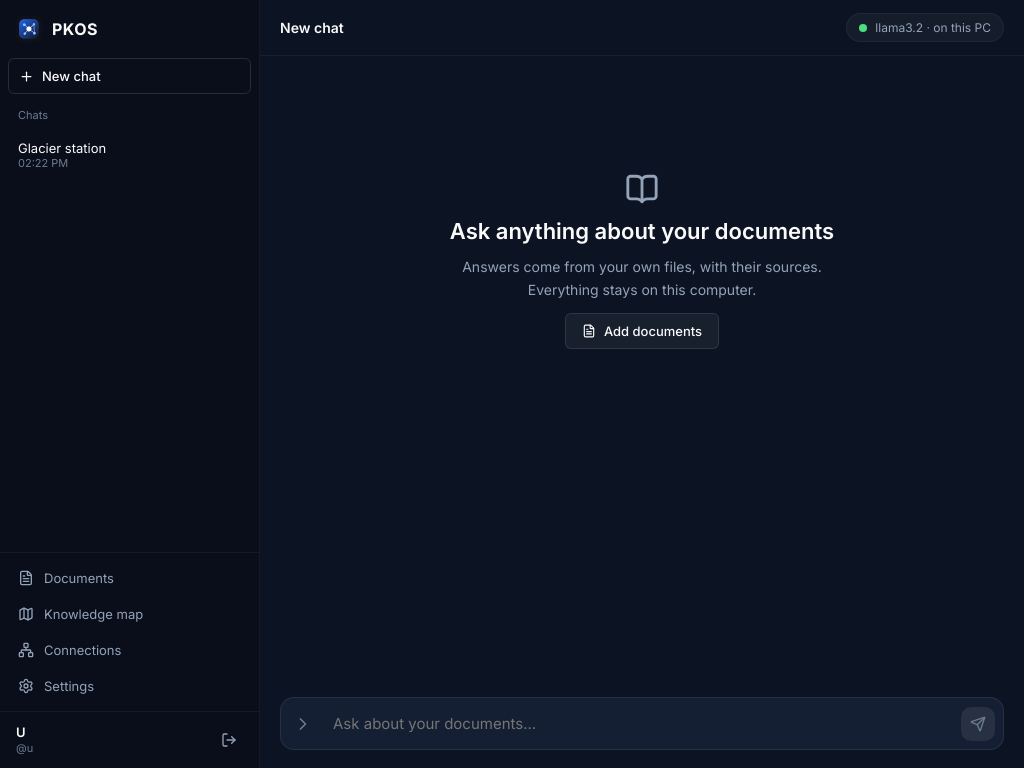
Scenario: the main screen › Documents is a page of its own, opened from the sidebar; New chat goes back to the chat
The image size is (1024, 768).
Step 1. Click the button "Documents" → {"x": 130, "y": 578}, box [8, 560, 251, 594]
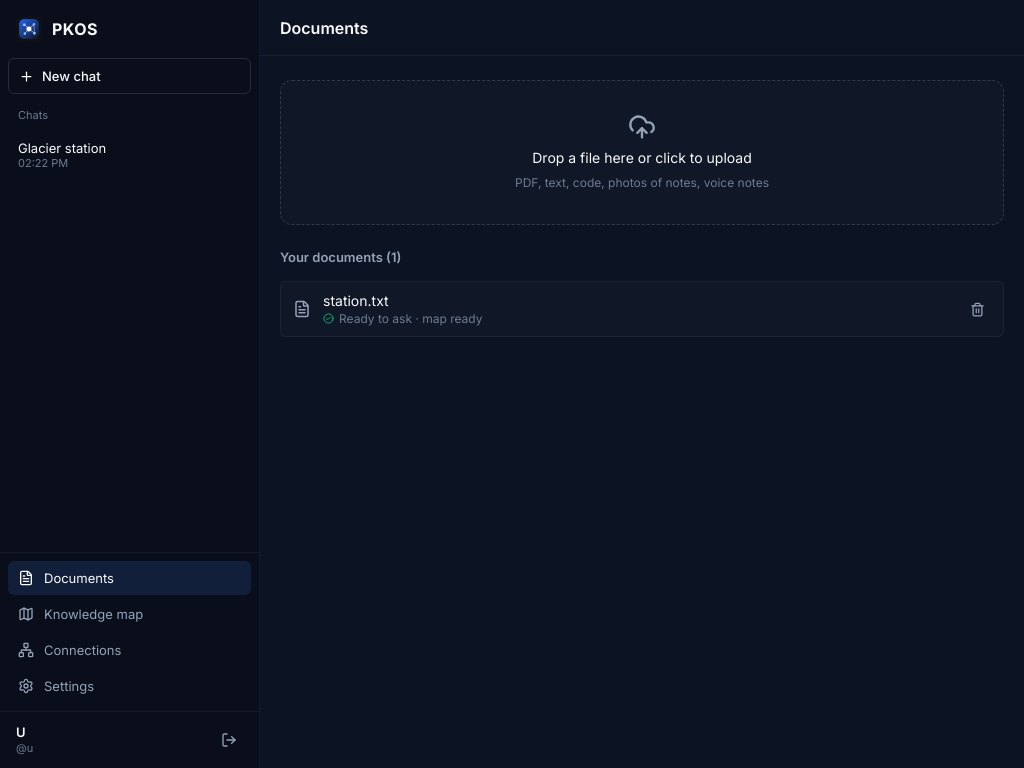
Expected: the heading "Documents" is shown, [280, 18, 368, 38]
Expected: the list item with test id "doc-row" shows "station.txt", [323, 292, 389, 309]
Expected: the list item with test id "doc-row" shows "Ready to ask · map ready", [280, 281, 1004, 337]
Step 2. Click the button named "Delete station.txt" → {"x": 978, "y": 309}, box [964, 296, 991, 322]
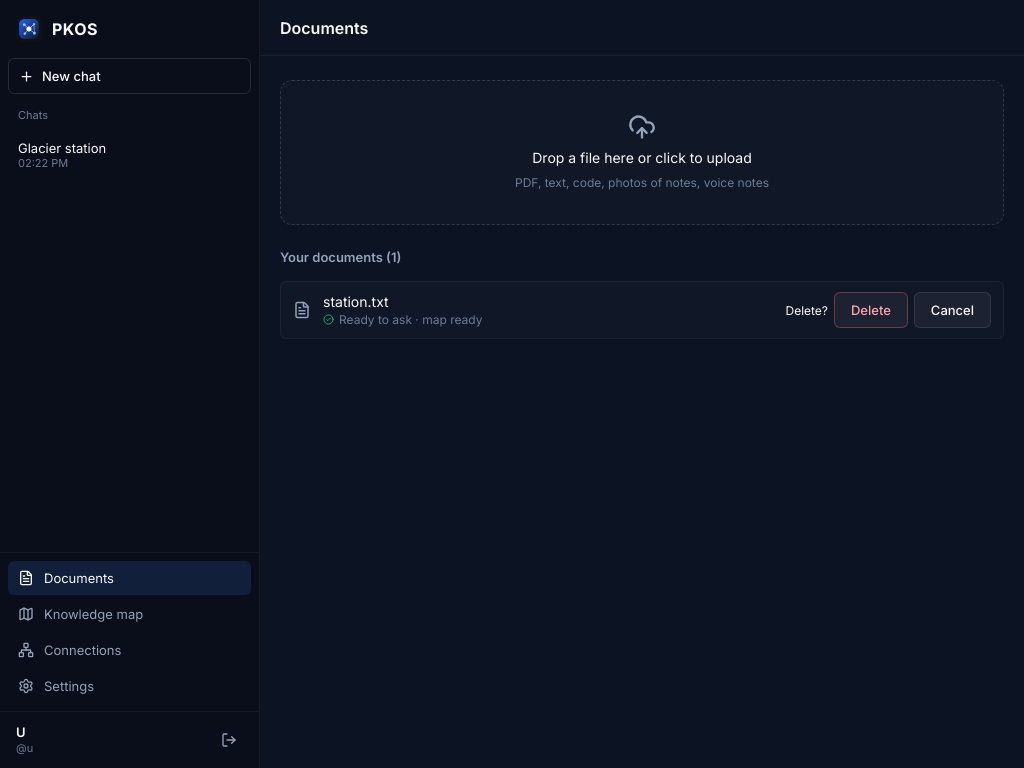
Step 3. Click the button "Delete" → {"x": 871, "y": 310}, box [834, 292, 908, 328]
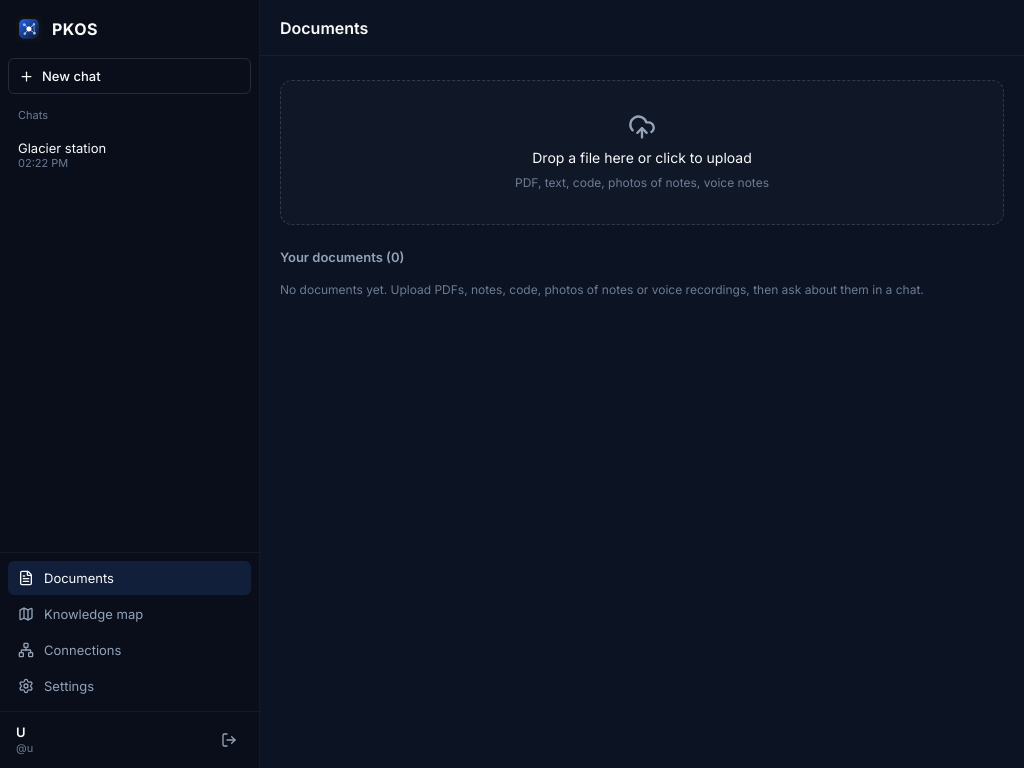
Expected: the list item with test id "doc-row" is gone
Step 4. Click the button "New chat" → {"x": 130, "y": 76}, box [8, 58, 251, 94]
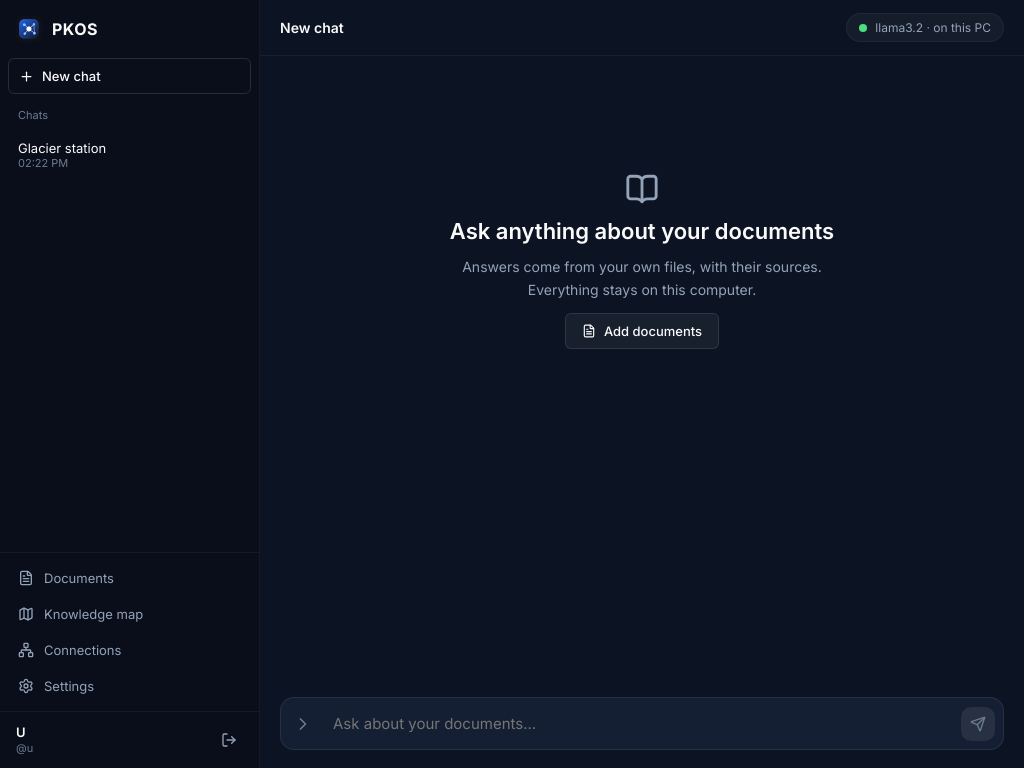
Expected: the field with placeholder "Ask about your documents..." is shown, [325, 704, 957, 743]
